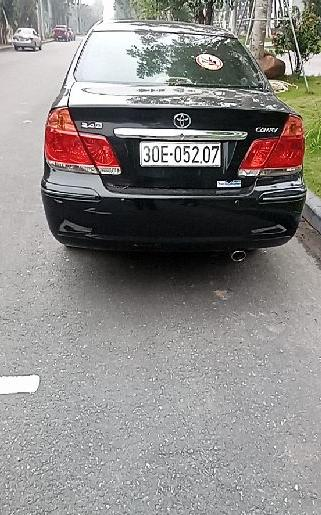Plate-iWeP: (141, 143, 221, 166)
